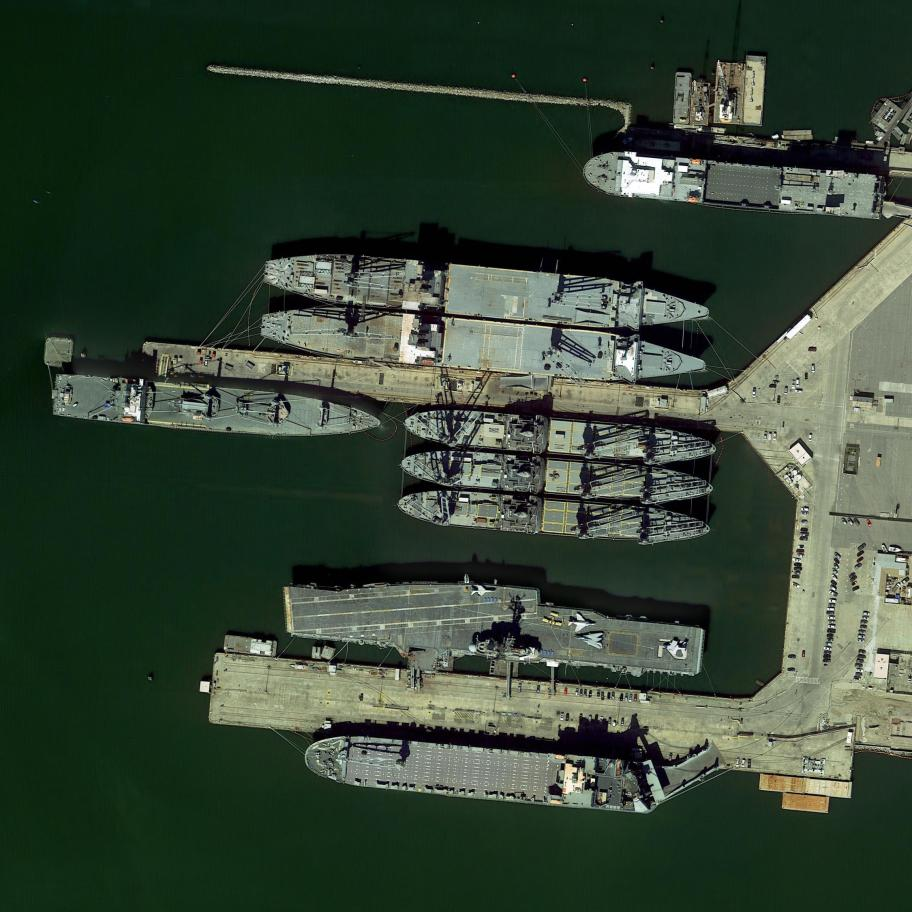large-vehicle: (891, 582, 901, 593), (900, 577, 910, 586)
plane: (573, 628, 604, 650), (567, 613, 597, 635), (661, 638, 687, 656), (542, 610, 565, 630), (469, 585, 497, 598)
ship: (276, 561, 708, 678), (259, 244, 712, 340), (258, 298, 710, 391), (301, 725, 662, 817), (49, 370, 384, 450), (582, 144, 887, 220), (399, 444, 718, 510), (401, 403, 719, 466), (395, 485, 712, 548), (712, 61, 749, 127), (741, 55, 766, 127), (223, 634, 279, 658), (672, 71, 692, 124), (690, 81, 710, 125)
small-vehicle: (833, 551, 842, 561), (853, 562, 863, 571), (790, 581, 801, 589), (856, 555, 865, 564), (832, 562, 840, 572), (855, 550, 865, 558), (847, 517, 855, 527), (829, 584, 838, 592), (830, 573, 838, 582), (831, 567, 839, 576), (833, 557, 841, 566), (849, 575, 858, 583), (858, 543, 867, 551), (853, 517, 861, 526), (830, 580, 838, 588), (849, 571, 857, 579), (865, 519, 873, 527), (829, 590, 838, 597), (841, 517, 848, 526), (735, 758, 741, 768), (857, 649, 867, 655), (851, 585, 861, 591), (791, 574, 801, 580), (850, 580, 858, 587), (599, 715, 604, 725), (752, 388, 757, 398), (517, 683, 522, 693), (855, 659, 865, 664), (792, 558, 802, 563), (823, 646, 833, 651), (560, 712, 565, 721), (741, 759, 746, 768), (811, 365, 816, 374), (857, 634, 866, 639), (828, 603, 837, 608), (793, 571, 802, 576), (823, 654, 832, 659), (828, 624, 837, 629), (566, 713, 571, 721), (669, 752, 673, 762), (747, 759, 751, 769), (792, 380, 796, 390), (808, 434, 813, 442), (764, 431, 768, 441), (855, 673, 863, 678), (854, 669, 864, 673), (799, 533, 809, 537), (608, 717, 612, 726), (808, 347, 817, 351), (854, 664, 863, 668), (857, 655, 866, 659), (856, 639, 865, 643), (826, 607, 835, 611), (799, 537, 808, 541), (796, 549, 805, 553), (794, 567, 803, 571), (802, 650, 806, 659), (823, 650, 832, 654), (825, 633, 834, 637), (827, 629, 836, 633), (827, 616, 836, 620), (826, 611, 835, 615), (629, 695, 633, 703), (634, 694, 638, 702), (621, 718, 625, 726), (796, 379, 800, 387), (795, 390, 803, 394), (784, 387, 788, 395), (772, 381, 780, 385), (769, 384, 777, 388), (773, 433, 777, 441), (768, 433, 772, 441), (800, 520, 808, 524), (537, 685, 541, 693), (584, 689, 588, 697), (800, 527, 808, 531), (829, 599, 837, 603), (853, 677, 861, 681), (858, 630, 866, 634), (859, 625, 867, 629), (862, 611, 870, 615), (797, 554, 805, 558), (825, 642, 833, 646), (826, 638, 834, 642), (828, 620, 836, 624), (859, 621, 869, 624), (798, 545, 805, 549), (589, 715, 592, 724), (801, 508, 810, 511), (800, 512, 809, 515), (787, 668, 796, 671), (580, 715, 583, 723), (805, 373, 808, 381), (777, 396, 780, 404), (625, 694, 628, 702), (612, 692, 615, 700), (862, 617, 870, 620), (794, 563, 802, 566), (788, 655, 796, 658), (823, 659, 831, 662), (576, 689, 579, 696), (580, 690, 583, 697), (597, 690, 600, 697), (601, 693, 604, 700), (608, 693, 611, 699), (565, 689, 568, 695), (589, 691, 592, 697), (621, 694, 623, 701)
